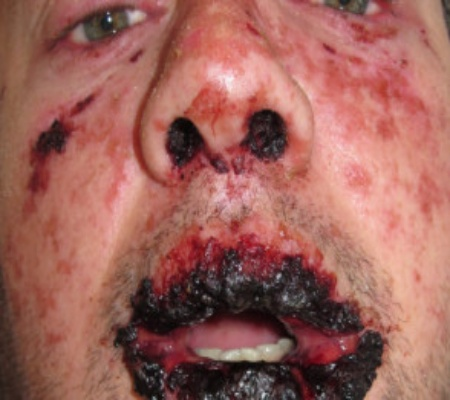SJS-TEN: (96, 214, 390, 400), (0, 49, 127, 230), (137, 72, 309, 202)
